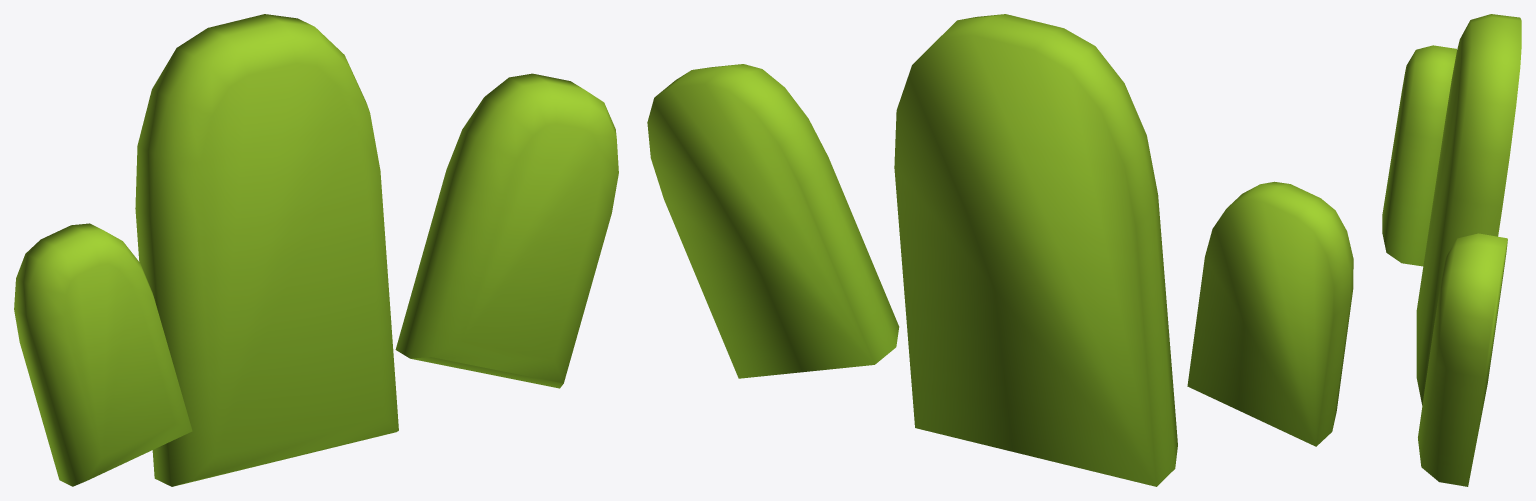
File: Grass3.fbx
3 renders of one model, left to right at view 1: azimuth 30°, elevation 25°; view 2: azimuth 150°, elevation 25°; view 3: azimuth 270°, elevation 25°, orthographic. The views are drawn at different scales.
Visible parts, largest first — view 1: Plane.001; view 2: Plane.001; view 3: Plane.001.
Part boxes in pixels (<box>): Plane.001: <box>14,14,618,486</box>; Plane.001: <box>647,14,1353,486</box>; Plane.001: <box>1382,14,1521,486</box>.
Size of the model in its own units: 1.55 by 0.9965 by 0.3628.
